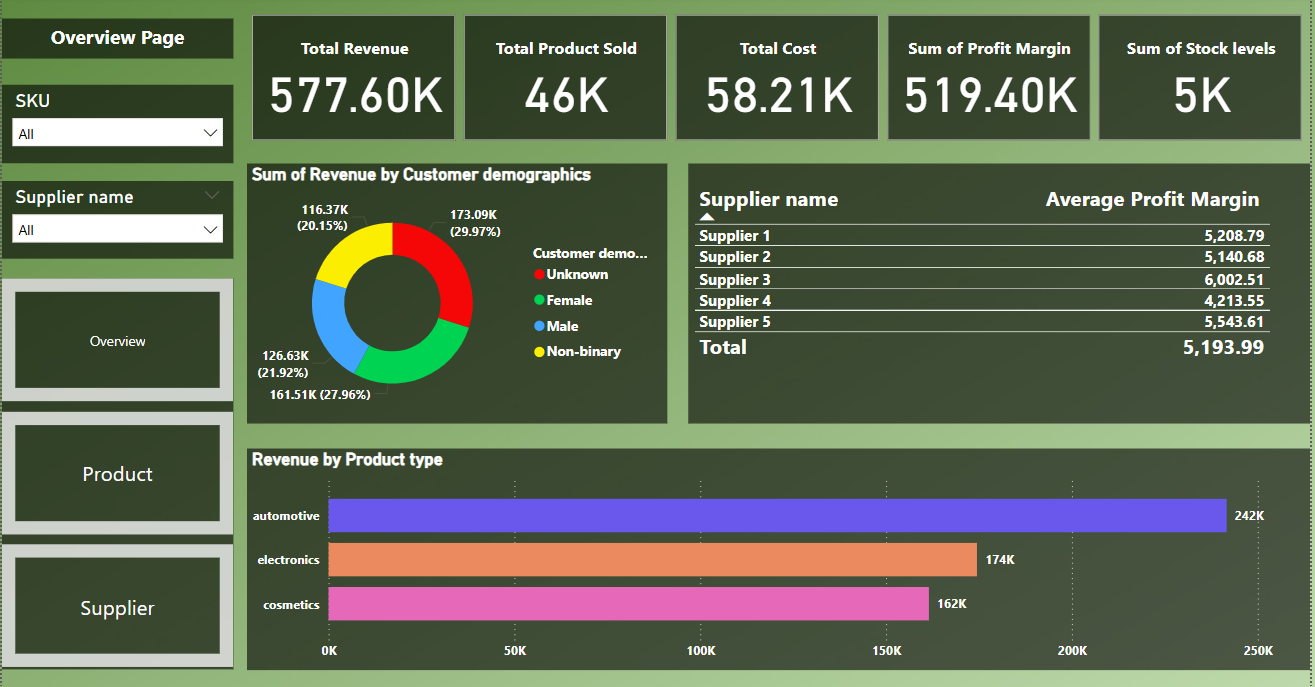

This screenshot's page, from the dashboard's own definition file:
{"tool":"powerbi","page":{"name":"Overview","canvas":[1280,720],"ordinal":0},"visuals":[{"type":"cardVisual","fields":{"Data":["Supply chain data.Total Revenue","Supply chain data.Total Product Sold","Supply chain data.Total Cost","Sum(Supply chain data.Profit Margin)","Sum(Supply chain data.Stock levels)"]},"box":[239.7,13.5,1040.6,133.3],"z":0},{"type":"donutChart","fields":{"Y":["Sum(Supply chain data.Revenue)"],"Category":["Supply chain data.Customer demographics"]},"box":[239.7,163.9,410.9,254.3],"z":1000},{"type":"barChart","title":"Revenue by Product type","fields":{"Y":["Sum(Supply chain data.Revenue)"],"Category":["Supply chain data.Product type"]},"box":[239.7,442.7,1040.6,216.4],"z":2000},{"type":"tableEx","fields":{"Values":["Supply chain data.Supplier name","Supply chain data.Average Profit Margin"]},"box":[671.3,163.9,609,254.3],"z":3000},{"type":"pageNavigator","box":[0,276.4,226.2,382.7],"z":4000},{"type":"slicer","fields":{"Values":["Supply chain data.SKU"]},"box":[0,86.8,226.2,77],"z":5000},{"type":"slicer","fields":{"Values":["Supply chain data.Supplier name"]},"box":[0,181,226.2,75.8],"z":6000},{"type":"textbox","box":[0,22,226.2,39.1],"z":7000}]}

Visuals, with their boxes on the page's 1280x720 design canvas (x1, y1, x2, y2). These are canvas units, not pixel positions in the 1315x687 screenshot, which may show the page scaled, cropped or inside an application window:
cardVisual - Supply chain data.Total Revenue x Supply chain data.Total Product Sold: [x1=240, y1=14, x2=1280, y2=147]
donutChart - Sum(Supply chain data.Revenue) x Supply chain data.Customer demographics: [x1=240, y1=164, x2=651, y2=418]
"Revenue by Product type" barChart: [x1=240, y1=443, x2=1280, y2=659]
tableEx - Supply chain data.Supplier name x Supply chain data.Average Profit Margin: [x1=671, y1=164, x2=1280, y2=418]
pageNavigator: [x1=0, y1=276, x2=226, y2=659]
slicer - Supply chain data.SKU: [x1=0, y1=87, x2=226, y2=164]
slicer - Supply chain data.Supplier name: [x1=0, y1=181, x2=226, y2=257]
textbox: [x1=0, y1=22, x2=226, y2=61]
